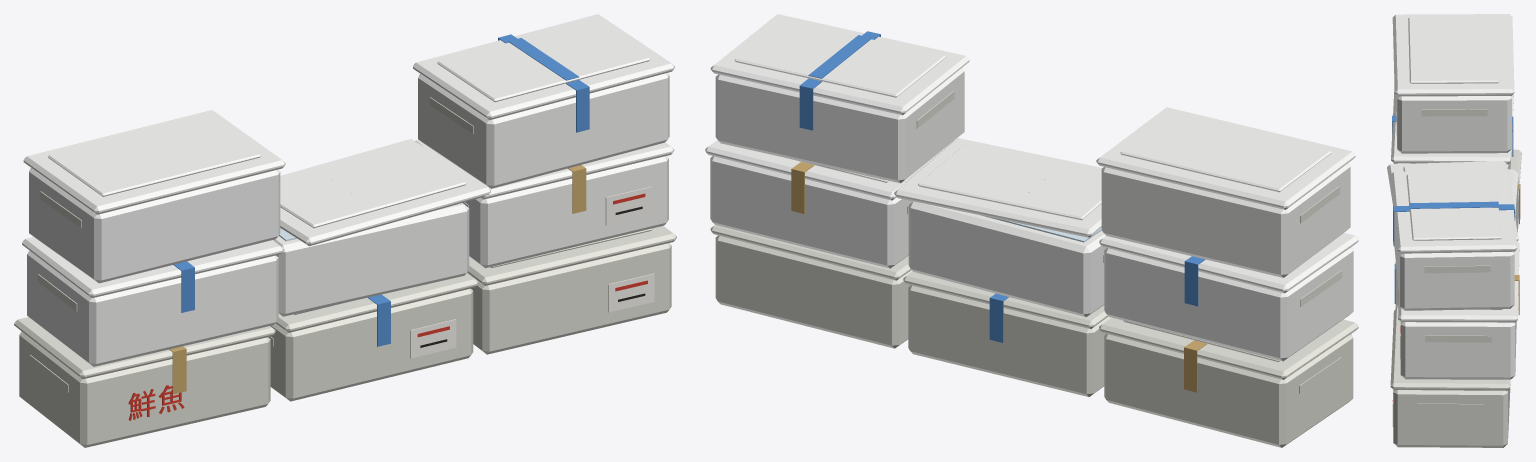
Rendered from styro_boxes.glb.
3 views of the same model, side by side, from view 1: azimuth 30°, elevation 25°; view 2: azimuth 150°, elevation 25°; view 3: azimuth 270°, elevation 25° (orthographic). The views are drawn at different scales.
Visible parts, largest first — view 1: styro_boxes_body; view 2: styro_boxes_body; view 3: styro_boxes_body.
Boxes of the visible parts, left/top/right/bottom form: styro_boxes_body: left=14, top=14, right=676, bottom=447; styro_boxes_body: left=705, top=14, right=1358, bottom=447; styro_boxes_body: left=1387, top=14, right=1521, bottom=447.
Size of what is drawn, in the model's own units: 2.21 by 0.893 by 0.5287.
